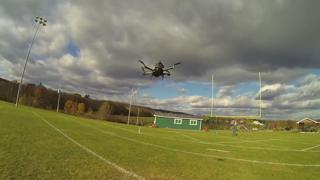UAV: (138, 60, 182, 81)
